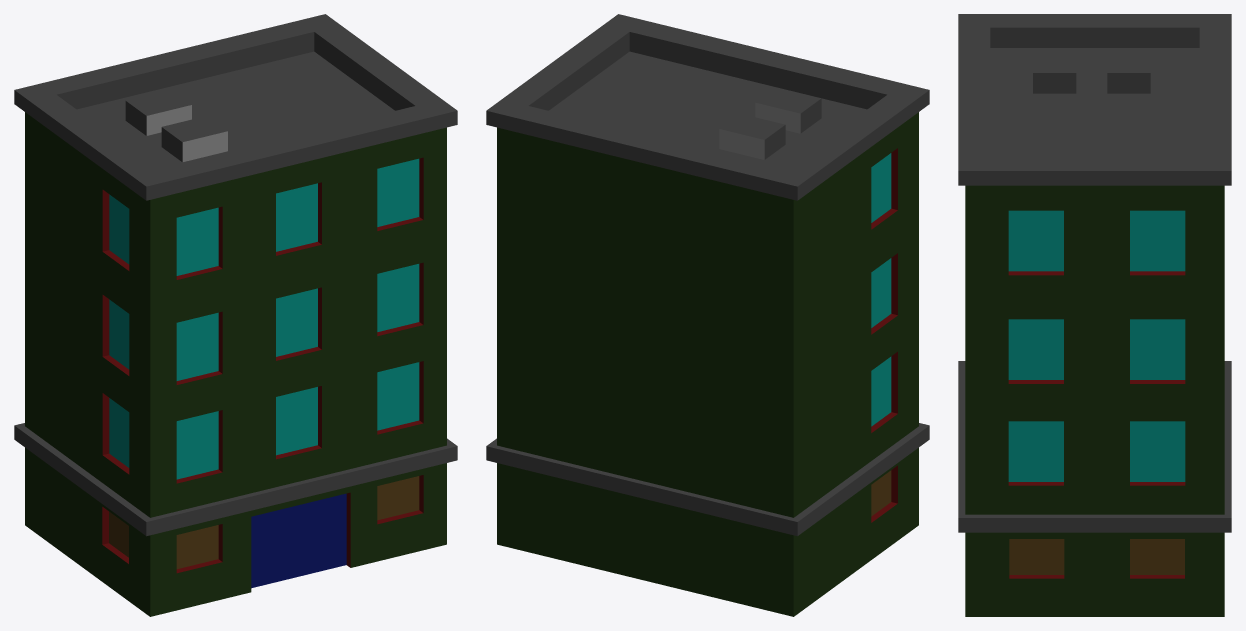
The model's file is CotyBlock03.FBX.
3 renders of one model, left to right at view 1: azimuth 30°, elevation 25°; view 2: azimuth 150°, elevation 25°; view 3: azimuth 270°, elevation 25°, orthographic. The views are drawn at different scales.
Visible parts, largest first — view 1: CityBlock02; view 2: CityBlock02; view 3: CityBlock02.
Boxes of the visible parts, box(x1,y1,x2,y2) form: CityBlock02: box(14, 14, 457, 616); CityBlock02: box(486, 14, 929, 616); CityBlock02: box(958, 14, 1231, 616).
Size of the model in its own units: 1828 by 2440 by 1344.
